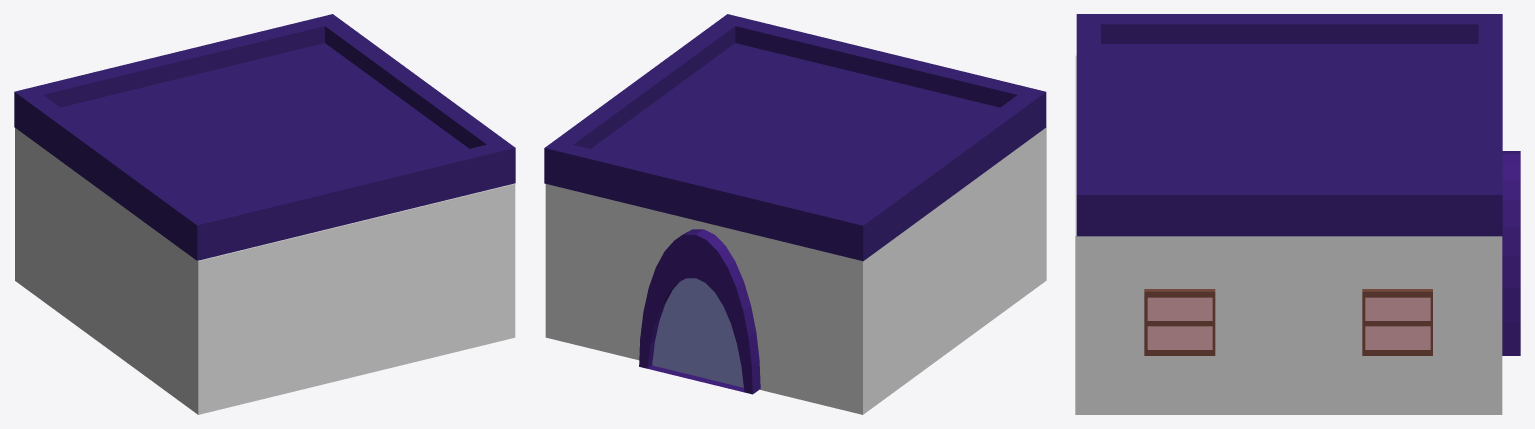
Rendered from evv.fbx.
The picture shows the model from 3 angles, left to right: view 1: azimuth 30°, elevation 25°; view 2: azimuth 150°, elevation 25°; view 3: azimuth 270°, elevation 25°; orthographic projection. The views are drawn at different scales.
Visible parts, largest first — view 1: Cube.011, Cube.004; view 2: Cube.004, Cube.011, Cylinder; view 3: Cube.004, Cube.011, Cube.009, Cylinder.
Part boxes in pixels (<box>): Cube.011: <box>15,128,515,414</box>; Cube.004: <box>14,14,515,260</box>; Cube.004: <box>544,14,1046,261</box>; Cube.011: <box>545,127,1046,414</box>; Cylinder: <box>639,229,760,394</box>; Cube.004: <box>1076,14,1502,236</box>; Cube.011: <box>1075,55,1502,414</box>; Cube.009: <box>1144,289,1432,355</box>; Cylinder: <box>1502,151,1520,355</box>.
Size of the model in its own units: 398 by 223 by 409.
